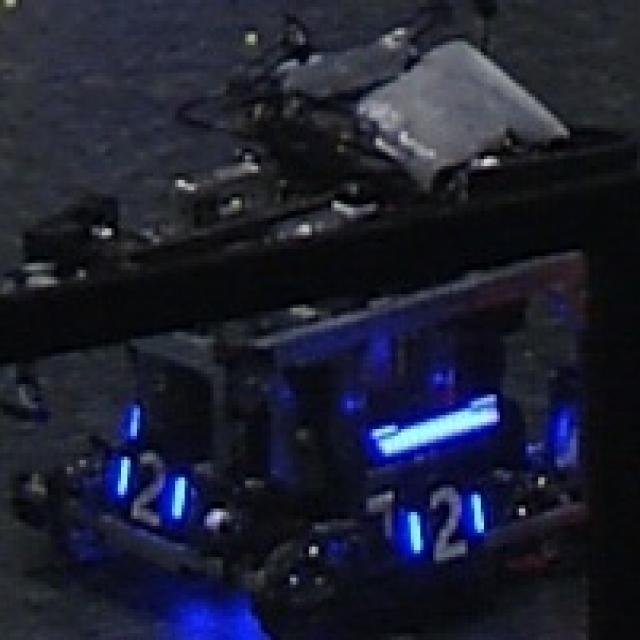B2: (402, 478, 491, 560), (108, 446, 185, 530)
